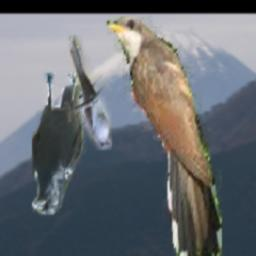Crow: (31, 73, 85, 214)
Cuckoo: (107, 15, 222, 256), (67, 35, 111, 150)
